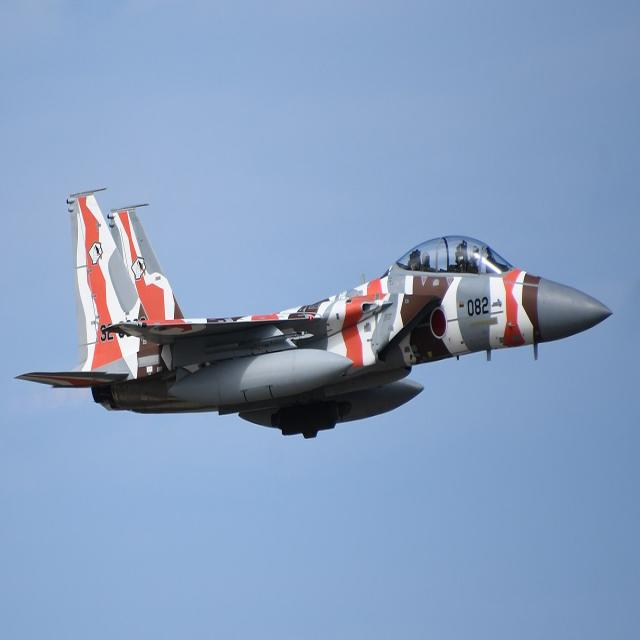MIL_Plane: (14, 187, 614, 441)
